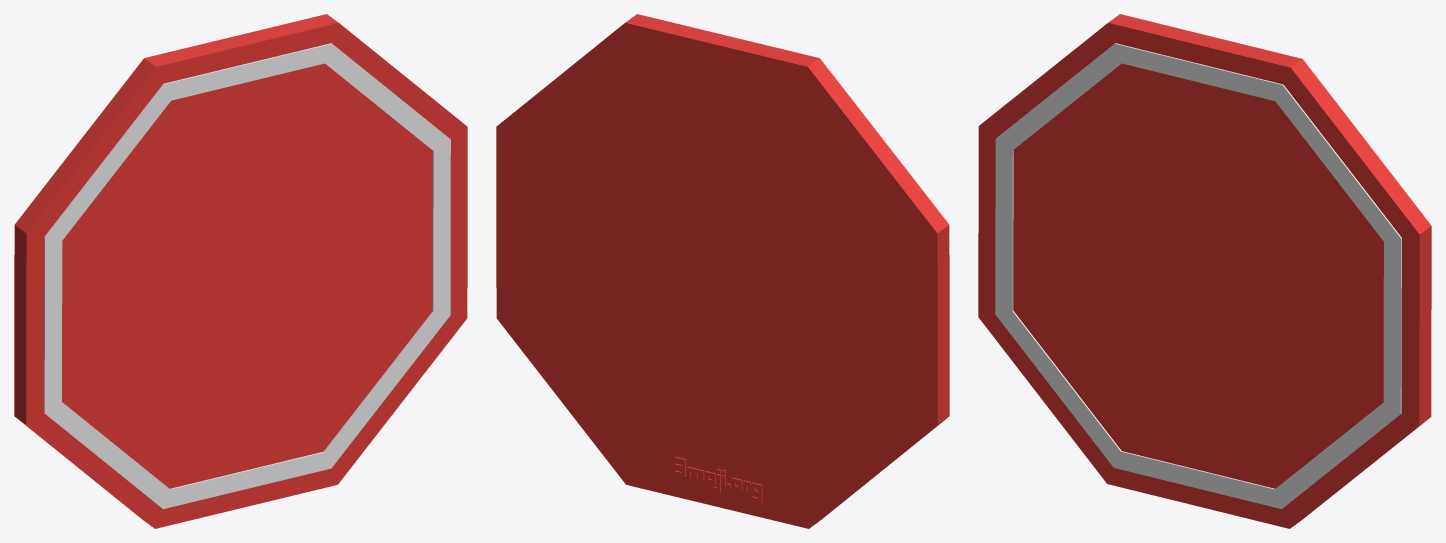
Rendered from stop_sign.gltf.
3 views of the same model, side by side, from view 1: azimuth 30°, elevation 25°; view 2: azimuth 150°, elevation 25°; view 3: azimuth 330°, elevation 25° (orthographic).
Parts seen in each view (by area): view 1: Circle.2397; view 2: Circle.2397; view 3: Circle.2397.
Part boxes in pixels (x1,y1,x2,y2): Circle.2397: (14, 14, 467, 528); Circle.2397: (496, 14, 949, 528); Circle.2397: (978, 14, 1431, 528).
Bounding box in the file's own units: 2.24 × 2.24 × 0.121.
1 material, 1 textured.
